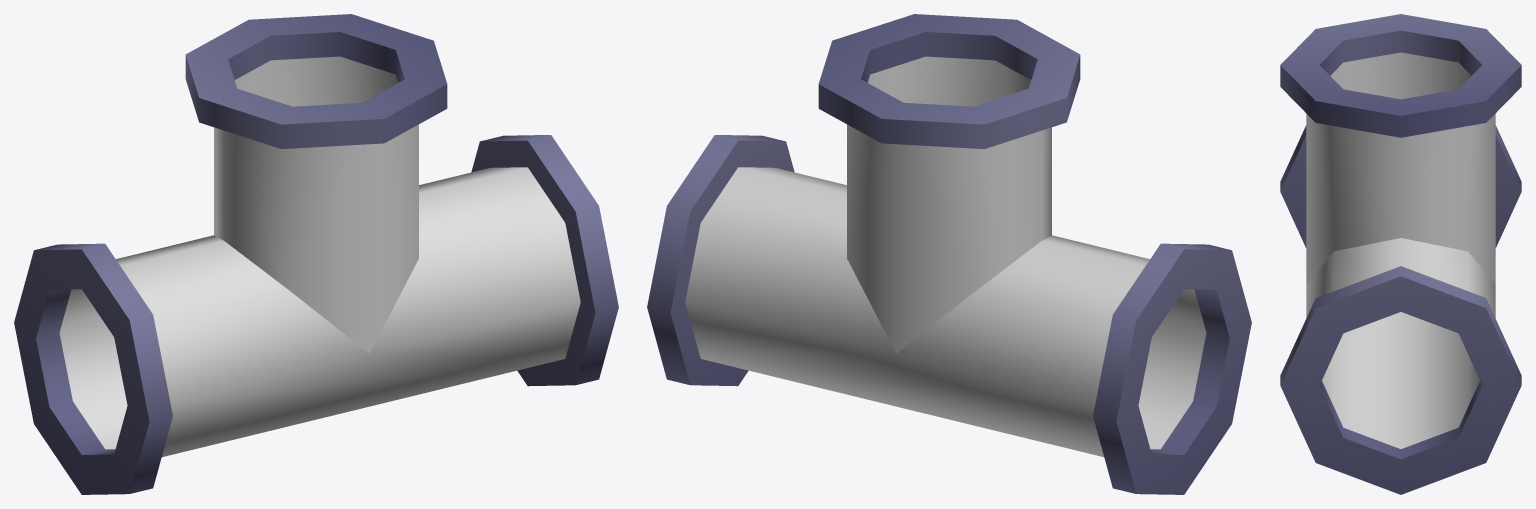
File: pipe-glass-large-side.glb
The picture shows the model from 3 angles, left to right: view 1: azimuth 30°, elevation 25°; view 2: azimuth 150°, elevation 25°; view 3: azimuth 270°, elevation 25°; orthographic projection. The views are drawn at different scales.
Parts seen in each view (by area): view 1: pipe-glass-large-side; view 2: pipe-glass-large-side; view 3: pipe-glass-large-side.
Boxes of the visible parts, x1,y1,x2,y2 form: pipe-glass-large-side: [14, 14, 618, 494]; pipe-glass-large-side: [647, 14, 1251, 494]; pipe-glass-large-side: [1280, 14, 1521, 494].
Bounding box in the file's own units: 2 × 1.5 × 1.
